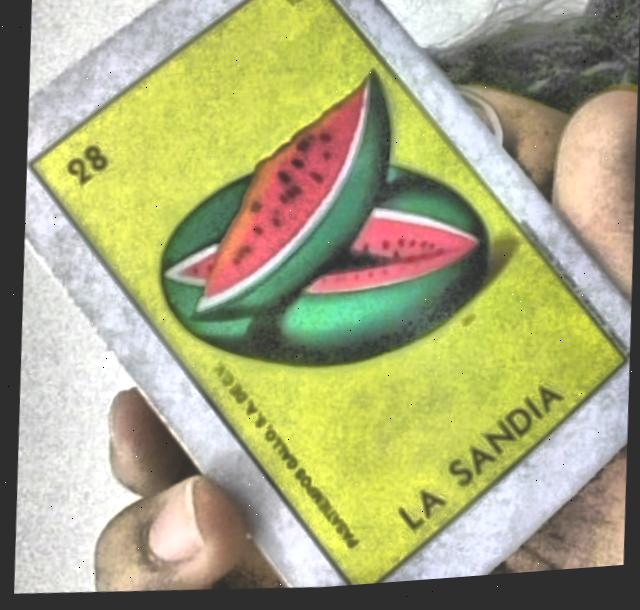La Sandia: (30, 0, 626, 591)
